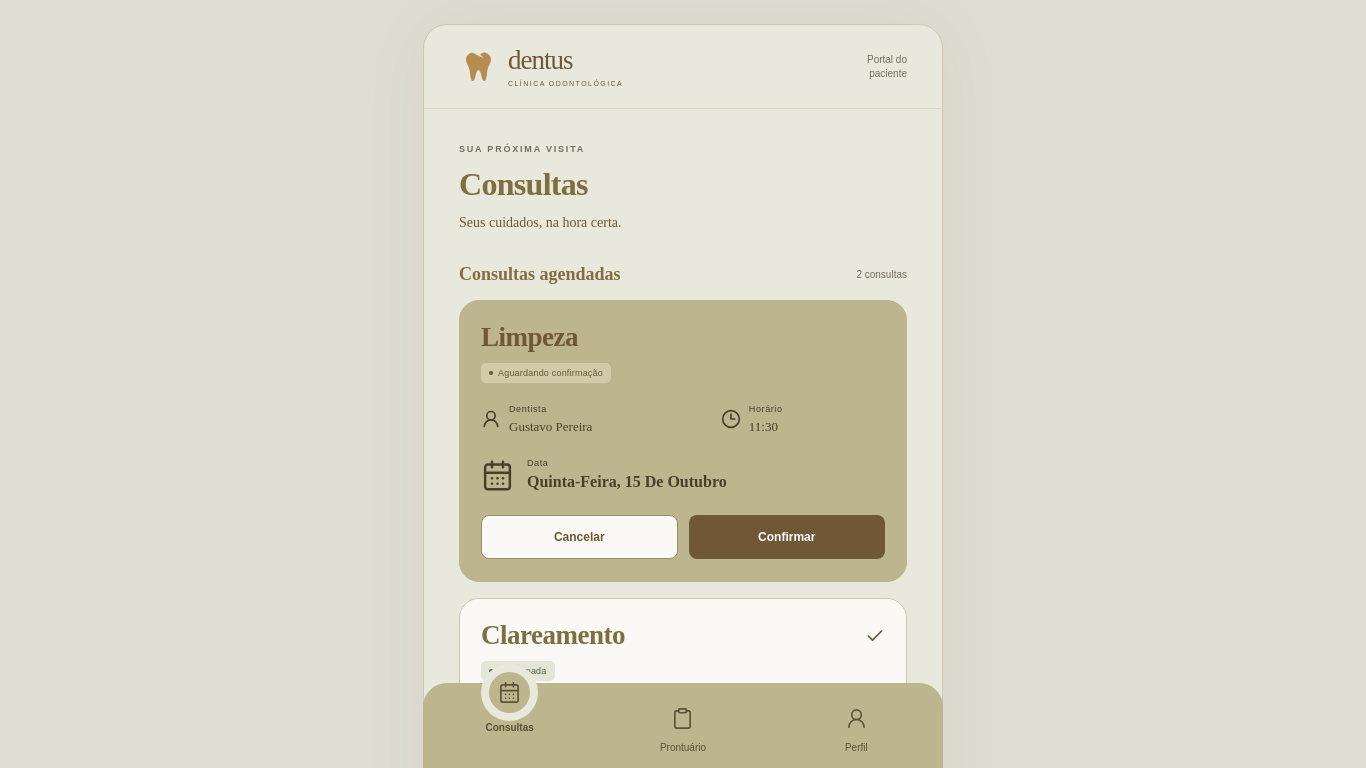
Test case: cancelamento exige confirmação e atualiza o cartão
The width and height of the screenshot is (1366, 768).
Click the button "Cancelar" at (579, 538), box left=481, top=516, right=678, bottom=560
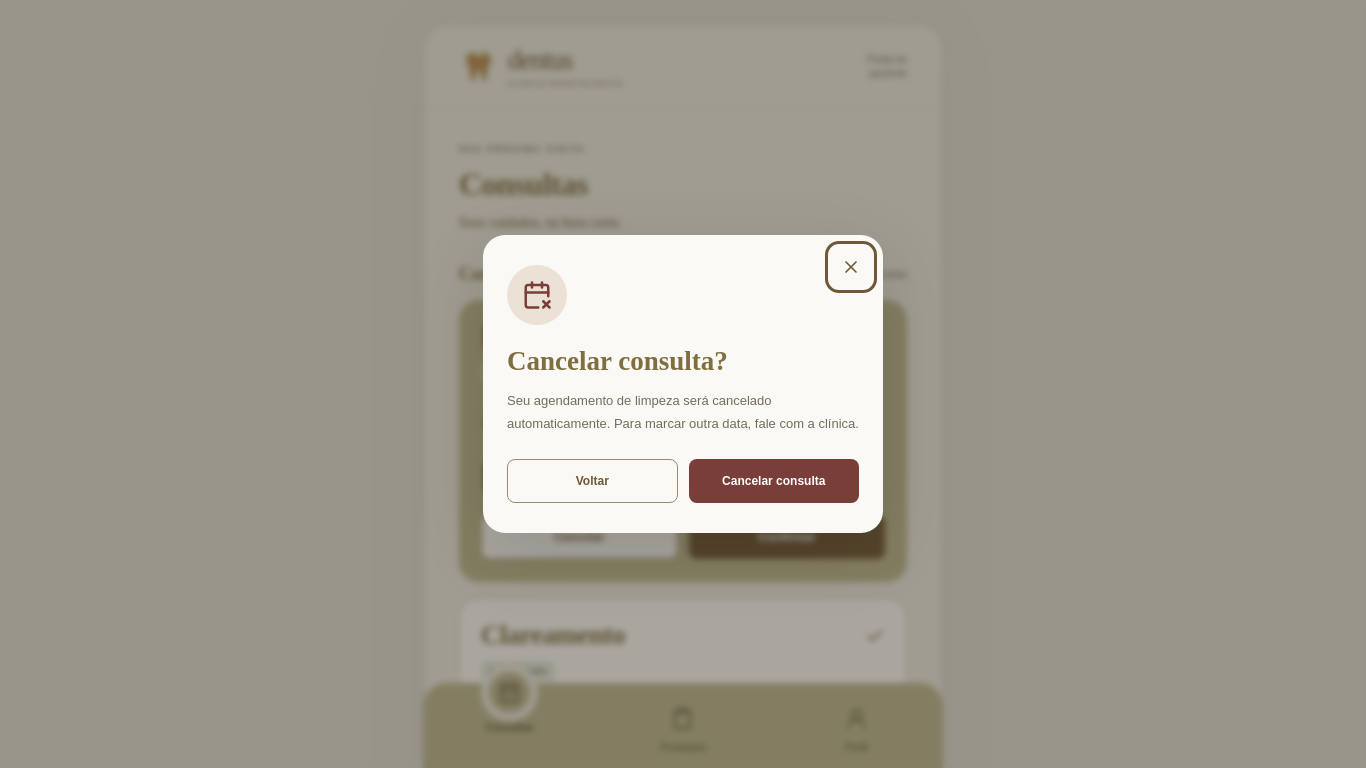
Expected: the dialog "Cancelar consulta?" is shown, left=483, top=235, right=883, bottom=533
Click the button "Cancelar consulta" at (774, 481), box left=688, top=459, right=859, bottom=503
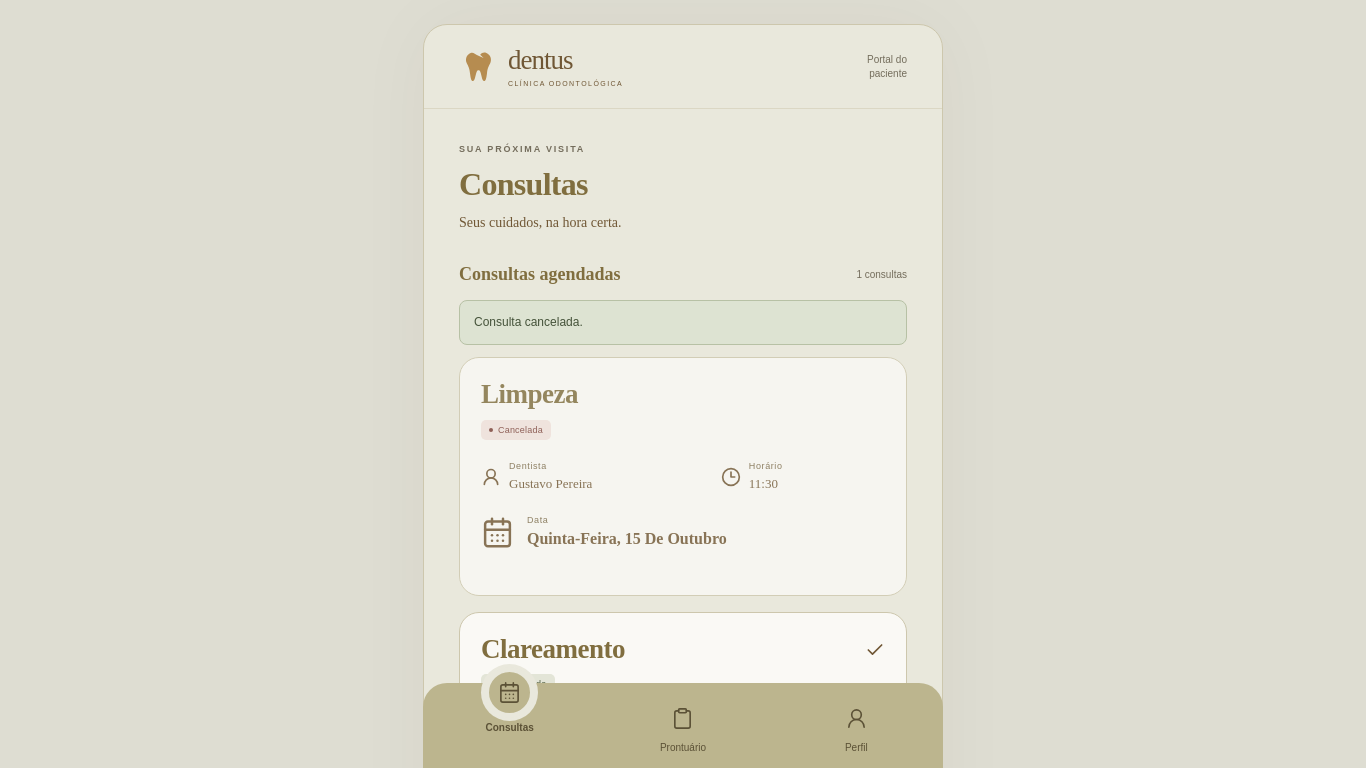
Expected: the text "Consulta cancelada." is shown, left=459, top=300, right=907, bottom=345
Expected: the text "Cancelada" is shown, left=481, top=420, right=551, bottom=440
